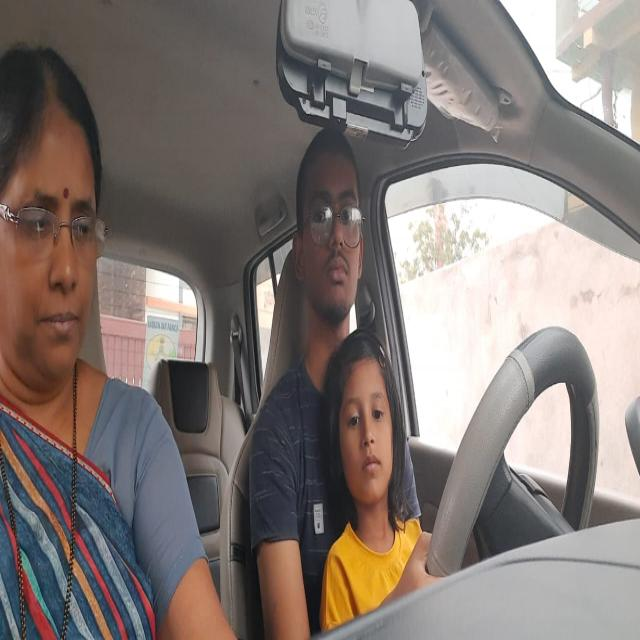child: (333, 344, 401, 507)
person: (2, 55, 98, 372), (294, 134, 366, 308)
